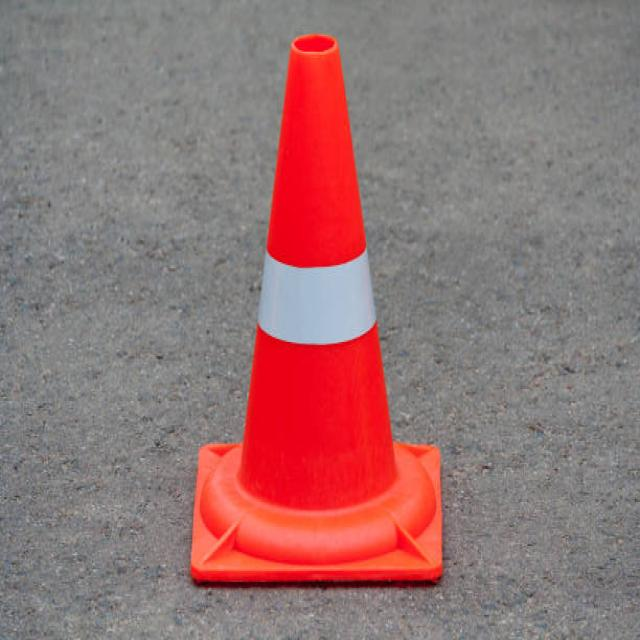Traffic Cone: (169, 12, 467, 619)
